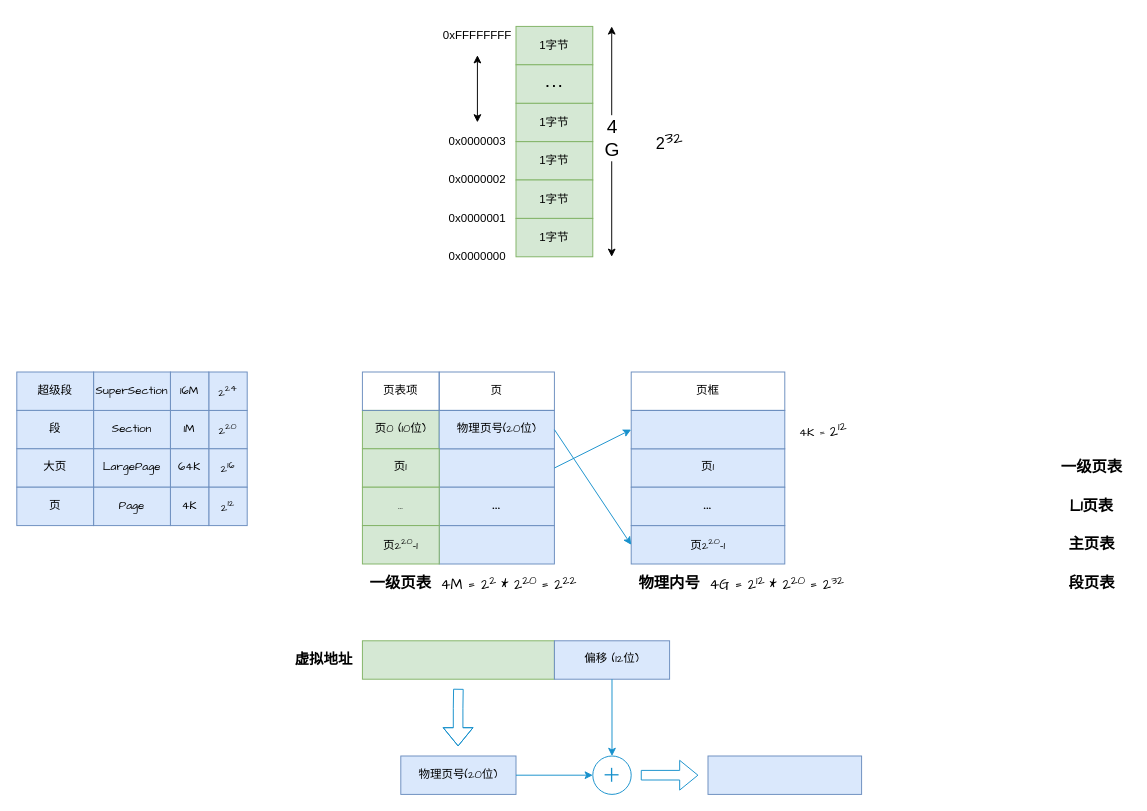
Some shapes in this 1147 by 811 pixel diagram are drawn without their labels. Here are the shapes that lost their labels. From the top down, the box of each, then its label:
(630, 409, 785, 449): 页0
(361, 640, 554, 679): 页号 (20位)
(707, 755, 862, 794): 物理地址
